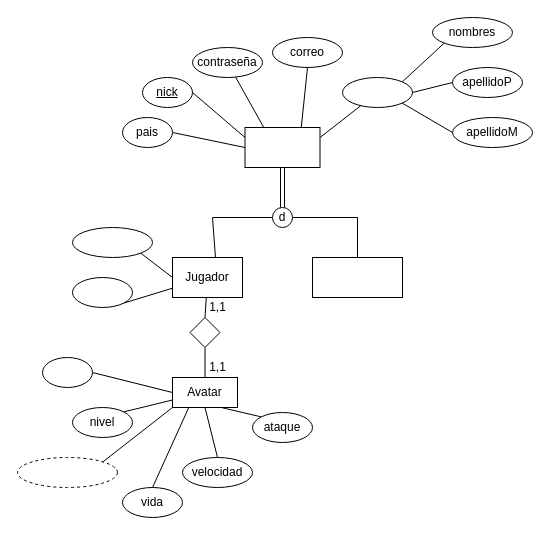
This 550x535 diagram has some shape labels left out. The shapes that lost their labels are listed below. From the top down, each one's centre as x and y in pixels, then its label:
At (377,92): "nombre".
At (282,147): "Usuario".
At (112,242): "cantReportes".
At (102,292): "ban_S_N".
At (357,277): "Administrador".
At (67,372): "ptosExp".
At (67,472): "ptosNecesarios".
